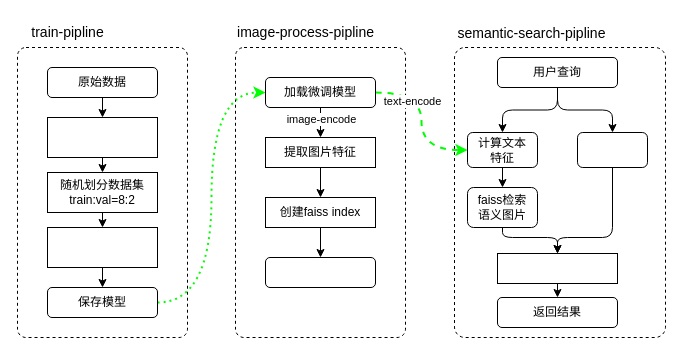
This 683x355 diagram has some shape labels left out. The shapes that lost their labels are listed below. From the top down, each one's centre as x and y in pixels, then its label:
(102,137): 合并文本字段 " x,y,z,... "
(612,150): 附加条件
(102,247): 基于openclip微调 Clip-B-16
(320,272): 保存faiss index
(557,268): 条件过滤
